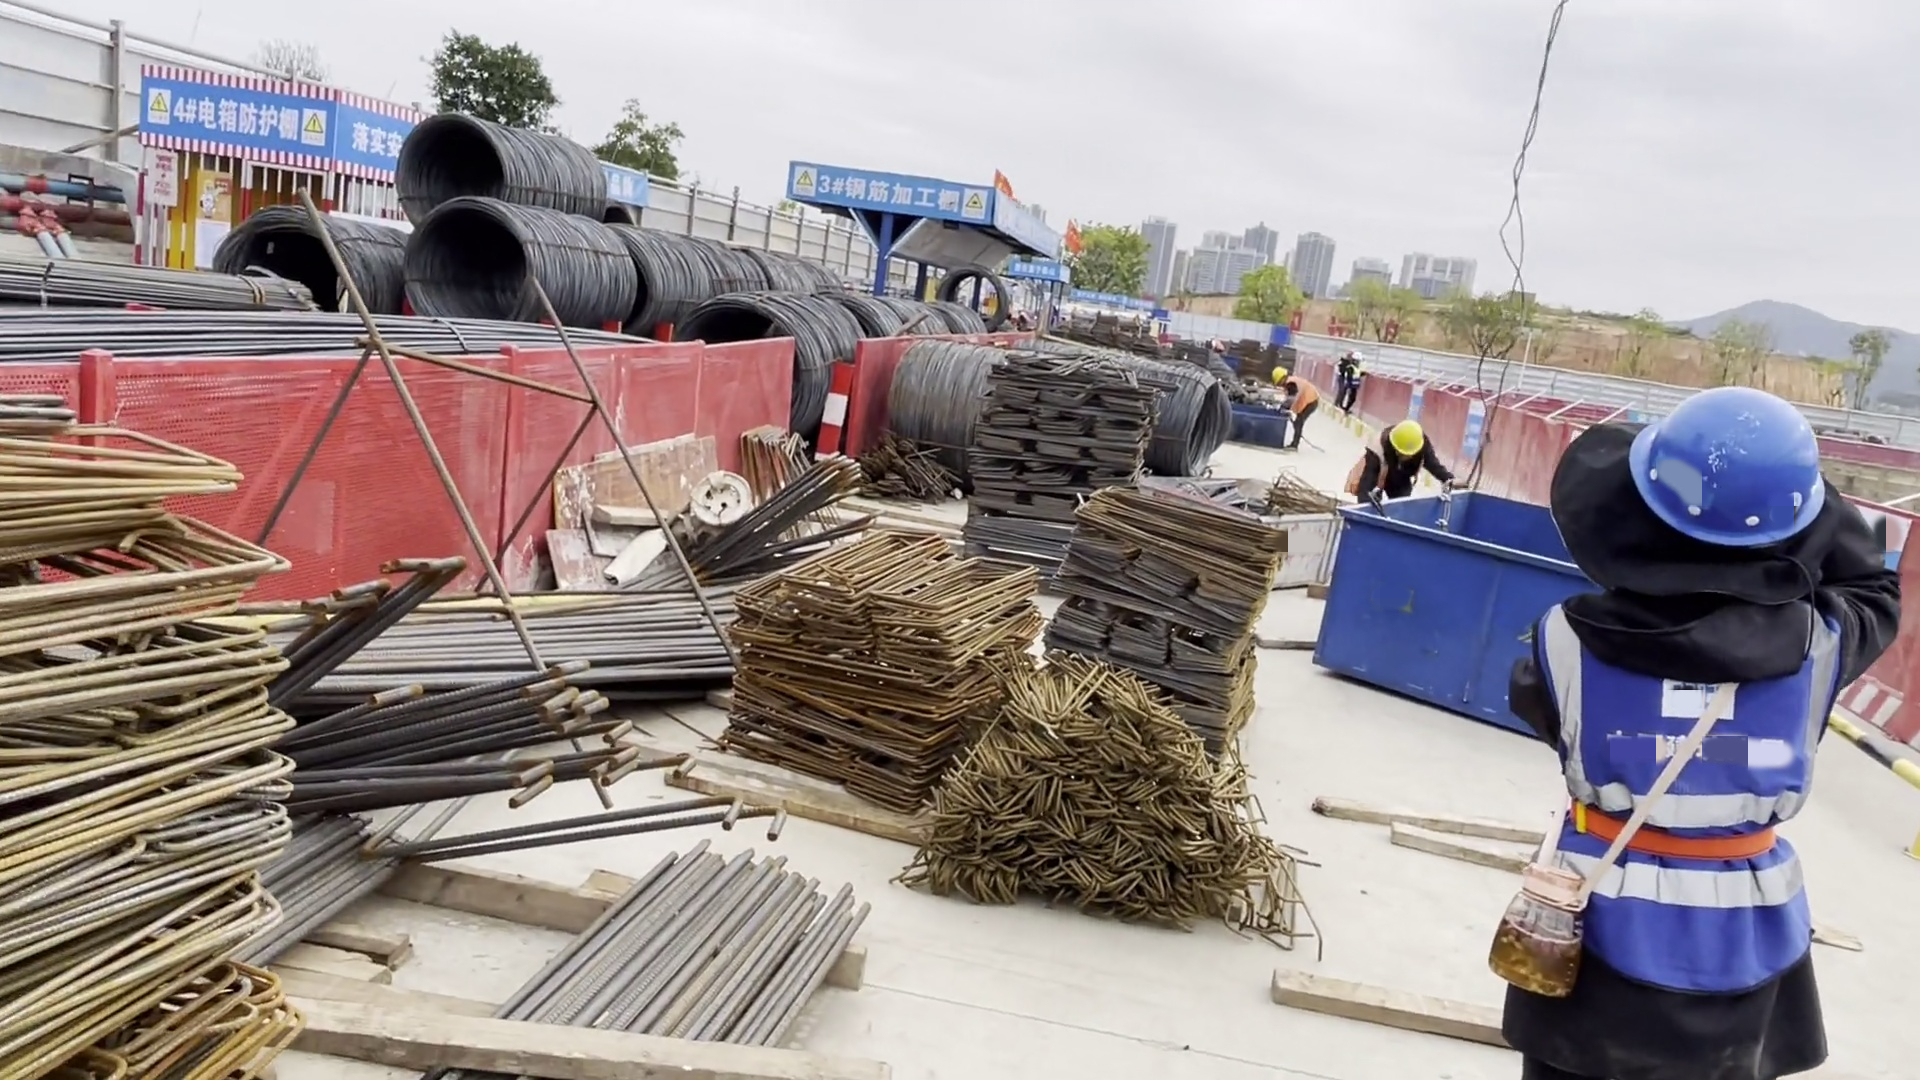helmet: (1639, 385, 1828, 542), (1389, 421, 1423, 462), (1269, 364, 1285, 386), (1339, 351, 1350, 362), (1353, 352, 1364, 361)
hopper: (1321, 492, 1547, 744), (1185, 464, 1337, 595)
person: (1523, 383, 1865, 1079), (1354, 413, 1433, 511), (1273, 363, 1319, 453), (1350, 351, 1366, 416), (1334, 348, 1350, 410)
rebar: (385, 856, 871, 1080), (238, 588, 722, 699)
slogan: (149, 99, 335, 155), (799, 167, 982, 213), (342, 115, 405, 173)
vest: (1559, 596, 1829, 1003), (1351, 436, 1387, 494), (1289, 379, 1320, 416), (1346, 365, 1363, 393), (1337, 365, 1352, 391)
